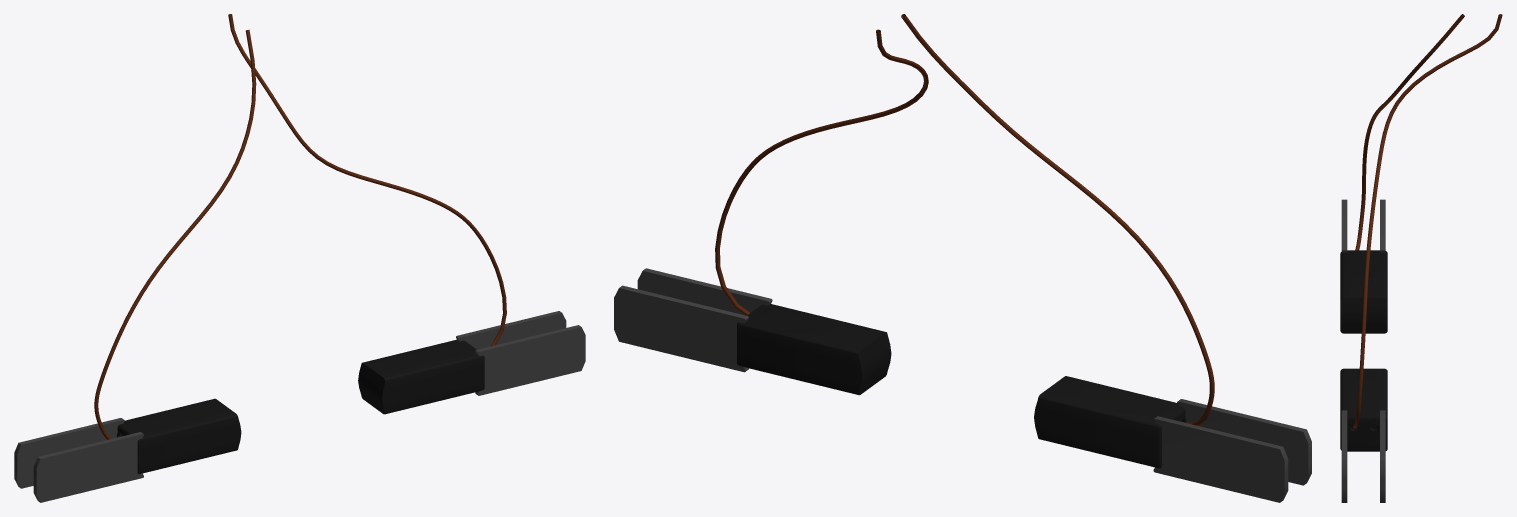
Rendered from brush.fbx.
3 views of the same model, side by side, from view 1: azimuth 30°, elevation 25°; view 2: azimuth 150°, elevation 25°; view 3: azimuth 270°, elevation 25° (orthographic). The views are drawn at different scales.
Parts seen in each view (by area): view 1: Cube.002; view 2: Cube.002; view 3: Cube.002.
Boxes of the visible parts, x1,y1,x2,y2 form: Cube.002: (14,14,585,502); Cube.002: (614,14,1311,502); Cube.002: (1340,14,1502,502).
Bounding box in the file's own units: 44.57 × 28.19 × 11.57.
